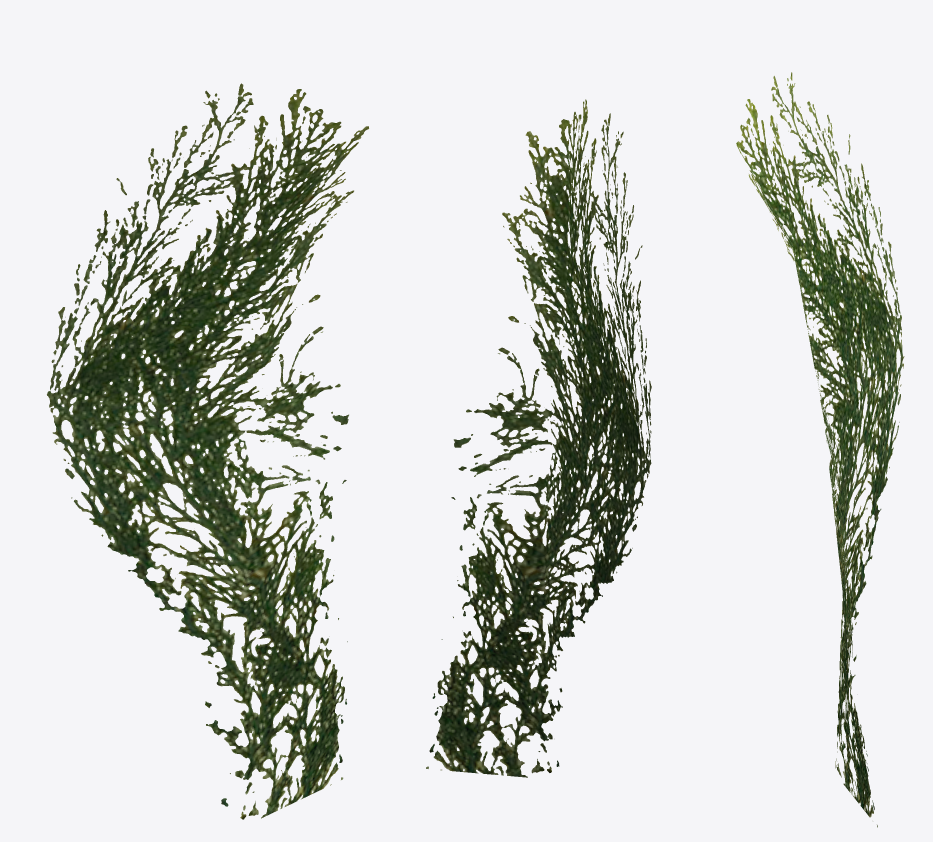
3 views of the same model, side by side, from view 1: azimuth 30°, elevation 25°; view 2: azimuth 150°, elevation 25°; view 3: azimuth 270°, elevation 25° (orthographic). The views are drawn at different scales.
Parts seen in each view (by area): view 1: Cystoseira.005; view 2: Cystoseira.005; view 3: Cystoseira.005.
Part boxes in pixels (x1,y1,x2,y2): Cystoseira.005: (47, 83, 368, 819); Cystoseira.005: (426, 99, 651, 777); Cystoseira.005: (736, 72, 904, 827).
Size of the model in its own units: 0.4547 by 1.12 by 0.3053.
Materials: 1 (1 with a texture image).
